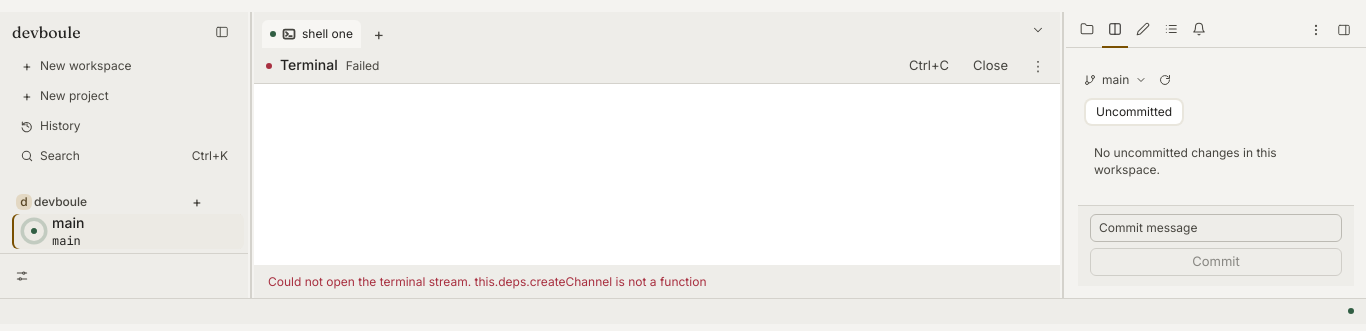
Test: the + new-tab menu › opens a menu whose items are exactly Agent, Terminal, Browser, in that order
The width and height of the screenshot is (1366, 331).
Click the button with class "workspace-session-add". click: (379, 34)
box: [365,20,393,48]
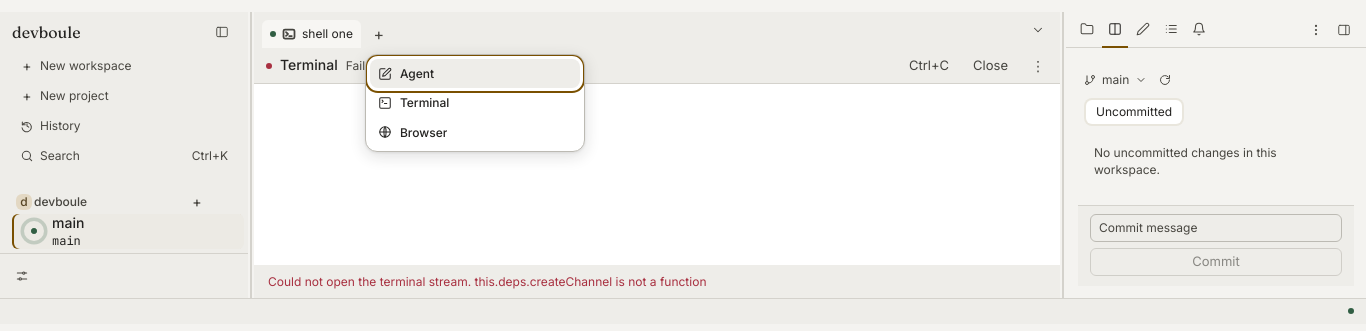
Expected: the menu is shown, [365,54,585,152]
